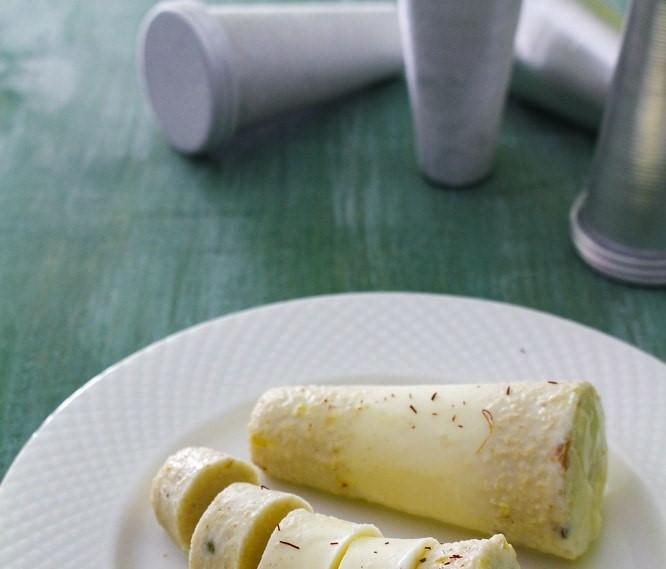Kulfi: (247, 378, 601, 559), (152, 446, 521, 569)
